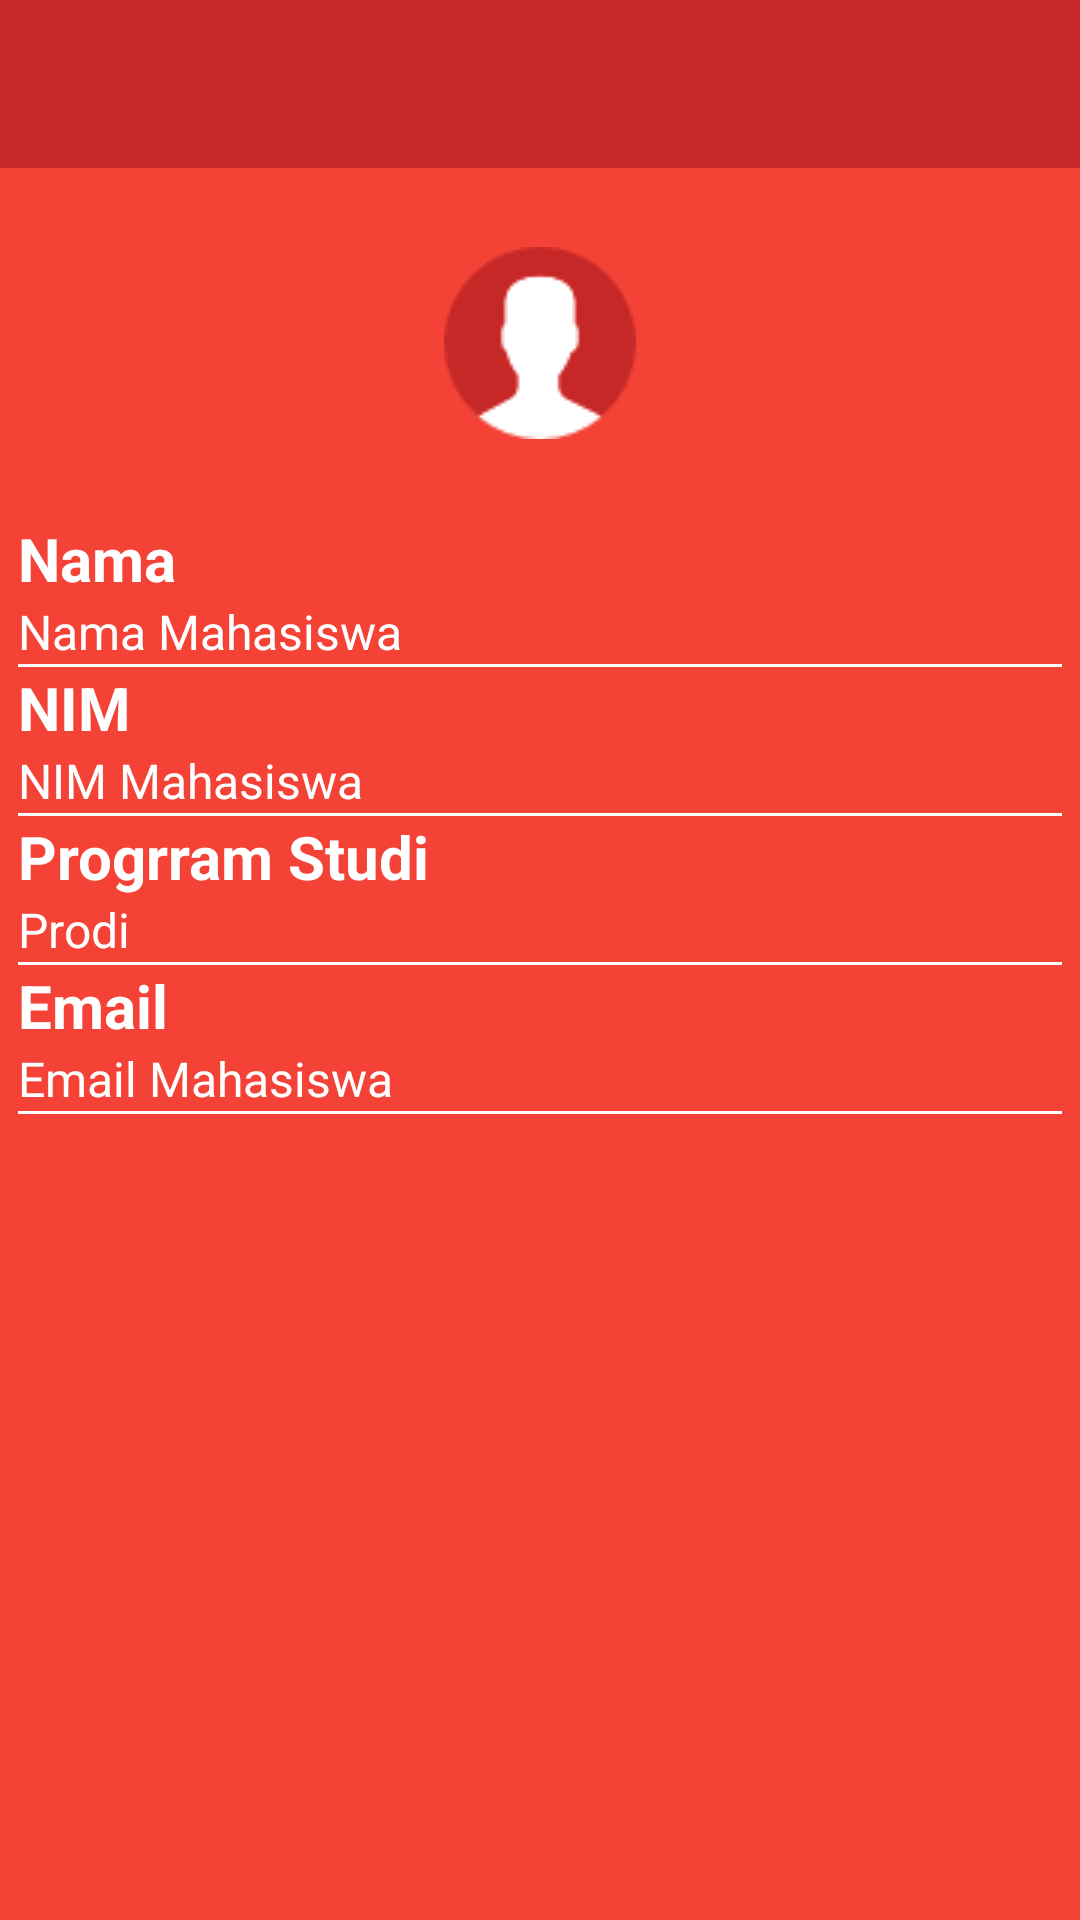

Screen size 1080x1920. Icon name, then its box in pixels as {"left": x1, "top": y1, "right": x2, "bottom": y2}:
user: {"left": 444, "top": 247, "right": 636, "bottom": 439}
